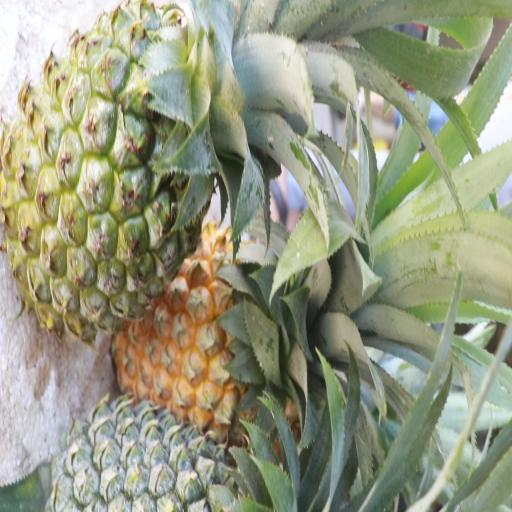Pineapple - v8 v1: (118, 228, 300, 433)
